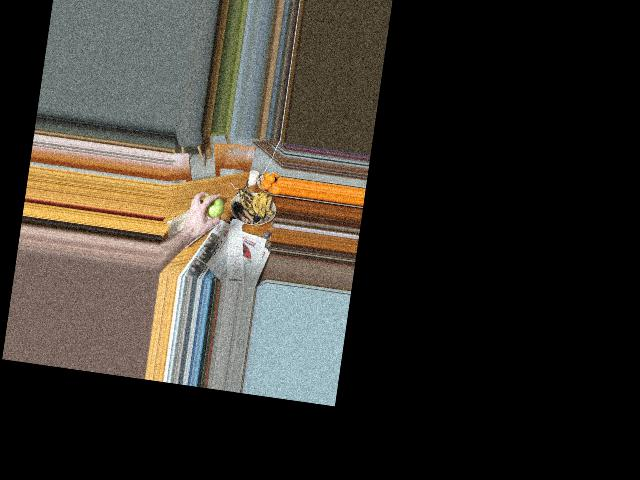apple: (203, 196, 223, 219)
